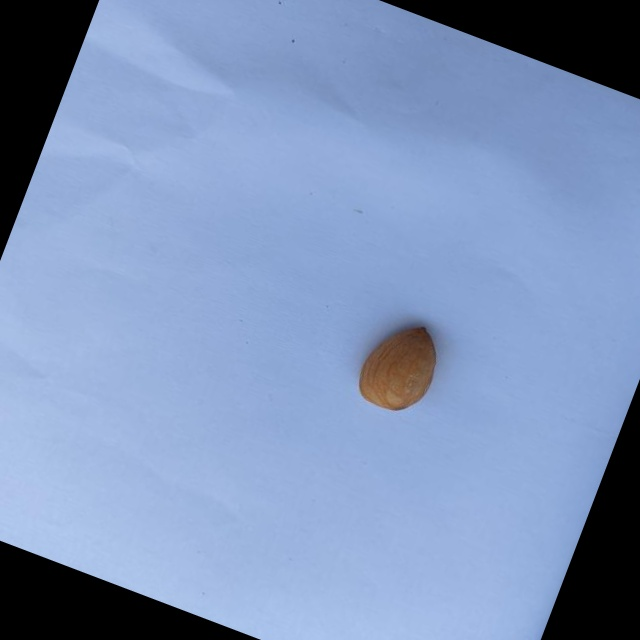grade2: (344, 307, 453, 425)
